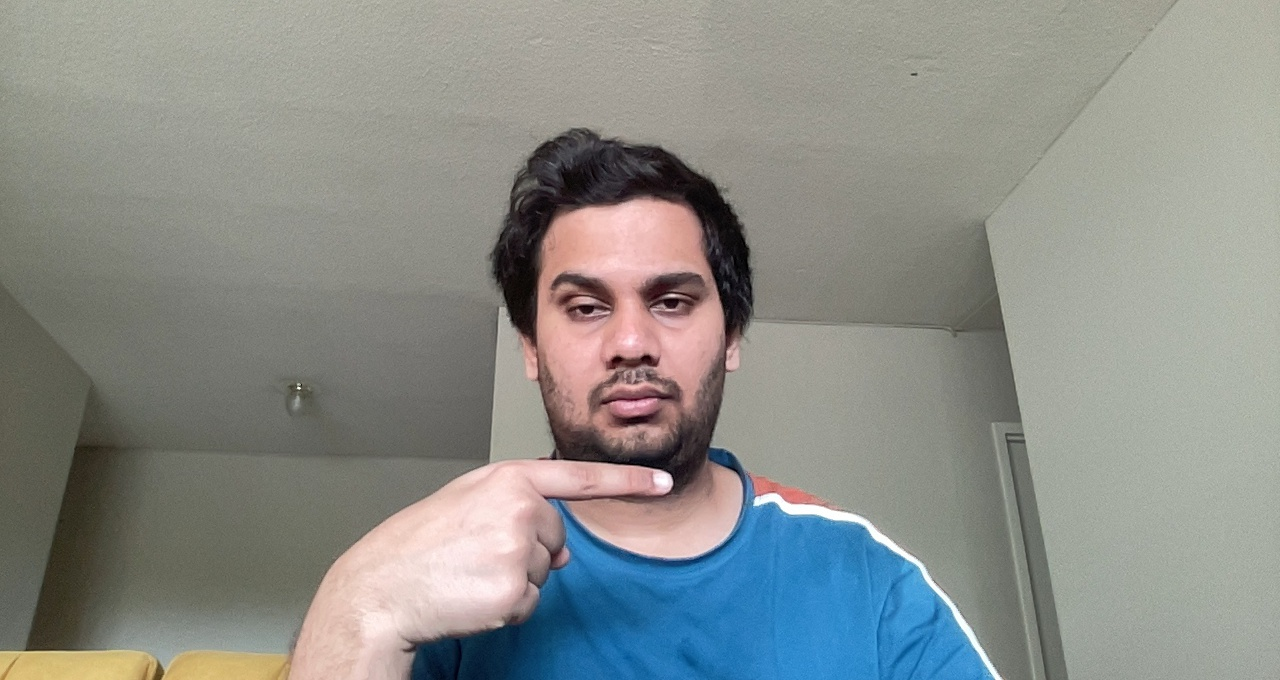fingerleft: (375, 455, 674, 650)
